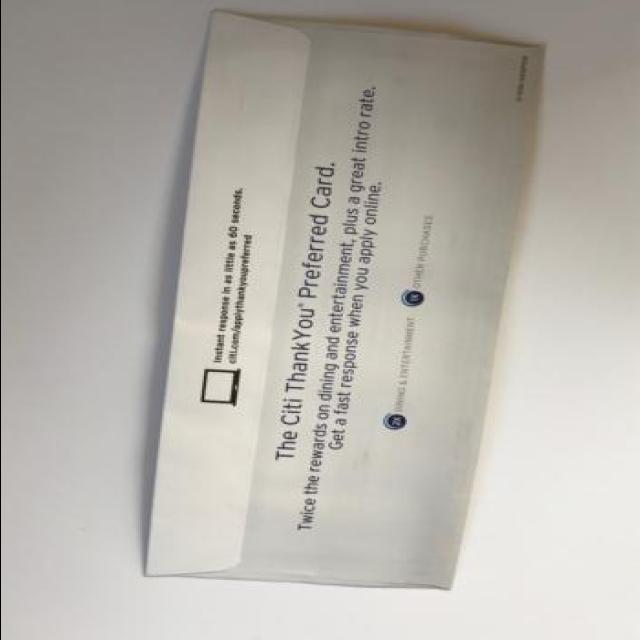kertas: (142, 13, 544, 594)
